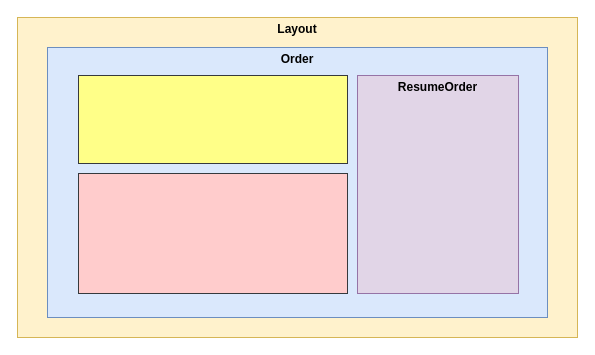
Image size: 595x355. Some labels were removed from this diagram. The shapes that lost their labels are listed below. From the top down, each one's centre as x and y in pixels, then its label:
the point at 213,119: InformacionContacto
the point at 213,233: TableCartOrder
